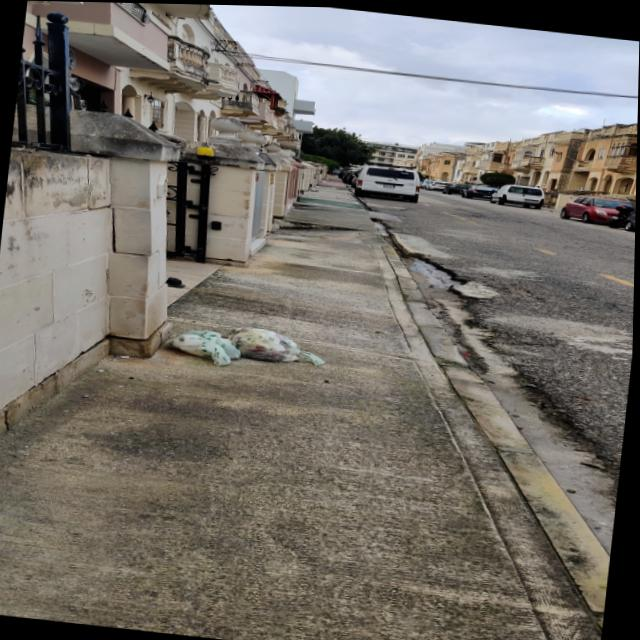Organic Waste -White Bags-: (168, 326, 330, 364), (311, 186, 319, 190), (320, 179, 327, 181)
